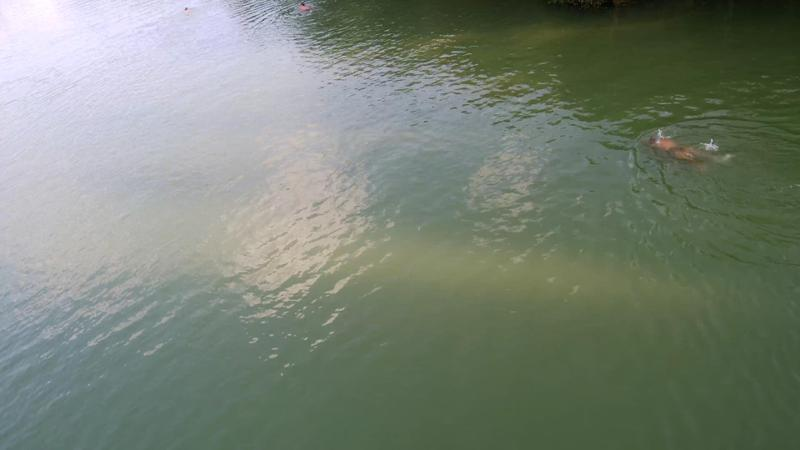swimmers: (644, 133, 733, 176)
